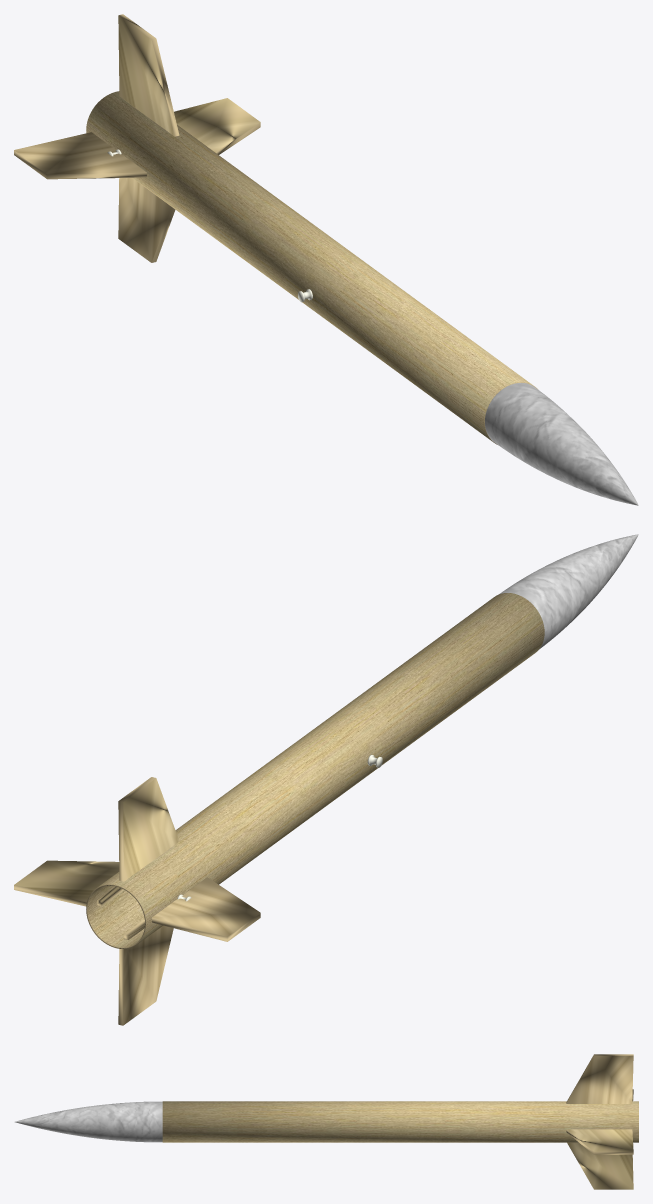
File: Rocket.glb
The picture shows the model from 3 angles, top to bottom: view 1: azimuth 30°, elevation 25°; view 2: azimuth 150°, elevation 25°; view 3: azimuth 270°, elevation 25°; orthographic projection. The views are drawn at different scales.
Visible parts, largest first — view 1: Rocket3Dmodel, Fin_Top, Fin_Right, Fin_Bottom, Fin_Left; view 2: Rocket3Dmodel, Fin_Top, Fin_Right, Fin_Bottom, Fin_Left; view 3: Rocket3Dmodel, Fin_Top, Fin_Bottom, Fin_Left.
Part boxes in pixels (left/top/right/bottom): Rocket3Dmodel: left=86, top=91, right=638, bottom=505; Fin_Top: left=118, top=14, right=179, bottom=136; Fin_Right: left=14, top=132, right=146, bottom=179; Fin_Bottom: left=118, top=178, right=175, bottom=262; Fin_Left: left=174, top=98, right=260, bottom=154; Rocket3Dmodel: left=86, top=534, right=638, bottom=948; Fin_Top: left=118, top=777, right=179, bottom=881; Fin_Right: left=152, top=877, right=260, bottom=941; Fin_Bottom: left=118, top=925, right=173, bottom=1025; Fin_Left: left=14, top=860, right=119, bottom=906; Rocket3Dmodel: left=15, top=1101, right=638, bottom=1142; Fin_Top: left=566, top=1054, right=633, bottom=1103; Fin_Bottom: left=567, top=1142, right=633, bottom=1189; Fin_Left: left=566, top=1129, right=633, bottom=1154.
Size of the model in its own units: 5.66 by 5.66 by 24.
4 materials, 3 textured.
